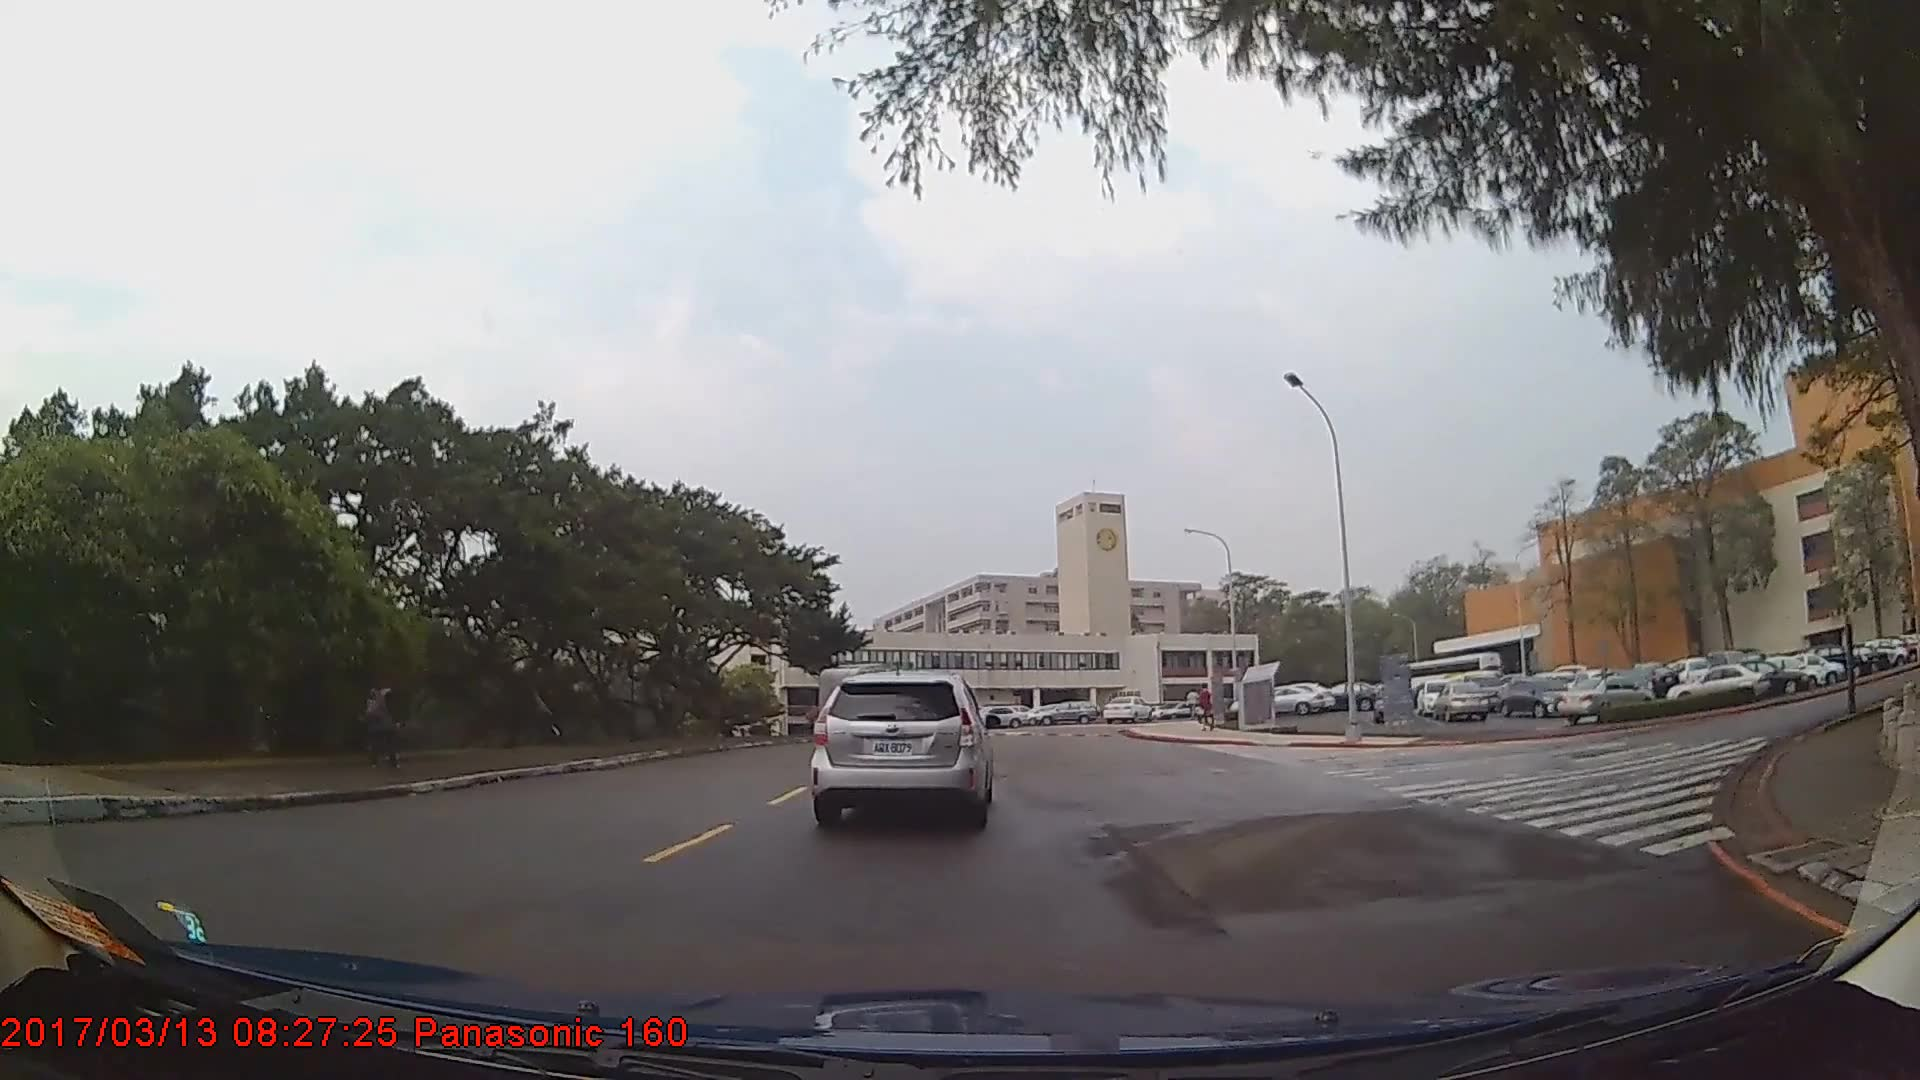pedestrian: (359, 664, 406, 768), (1196, 683, 1216, 734)
vehicle: (813, 669, 990, 827), (1555, 673, 1654, 725), (1667, 663, 1767, 711), (1720, 657, 1812, 698), (1499, 675, 1575, 718), (1432, 675, 1491, 720), (1245, 679, 1325, 712), (1100, 692, 1152, 725), (1035, 698, 1096, 724), (971, 704, 1029, 727)
